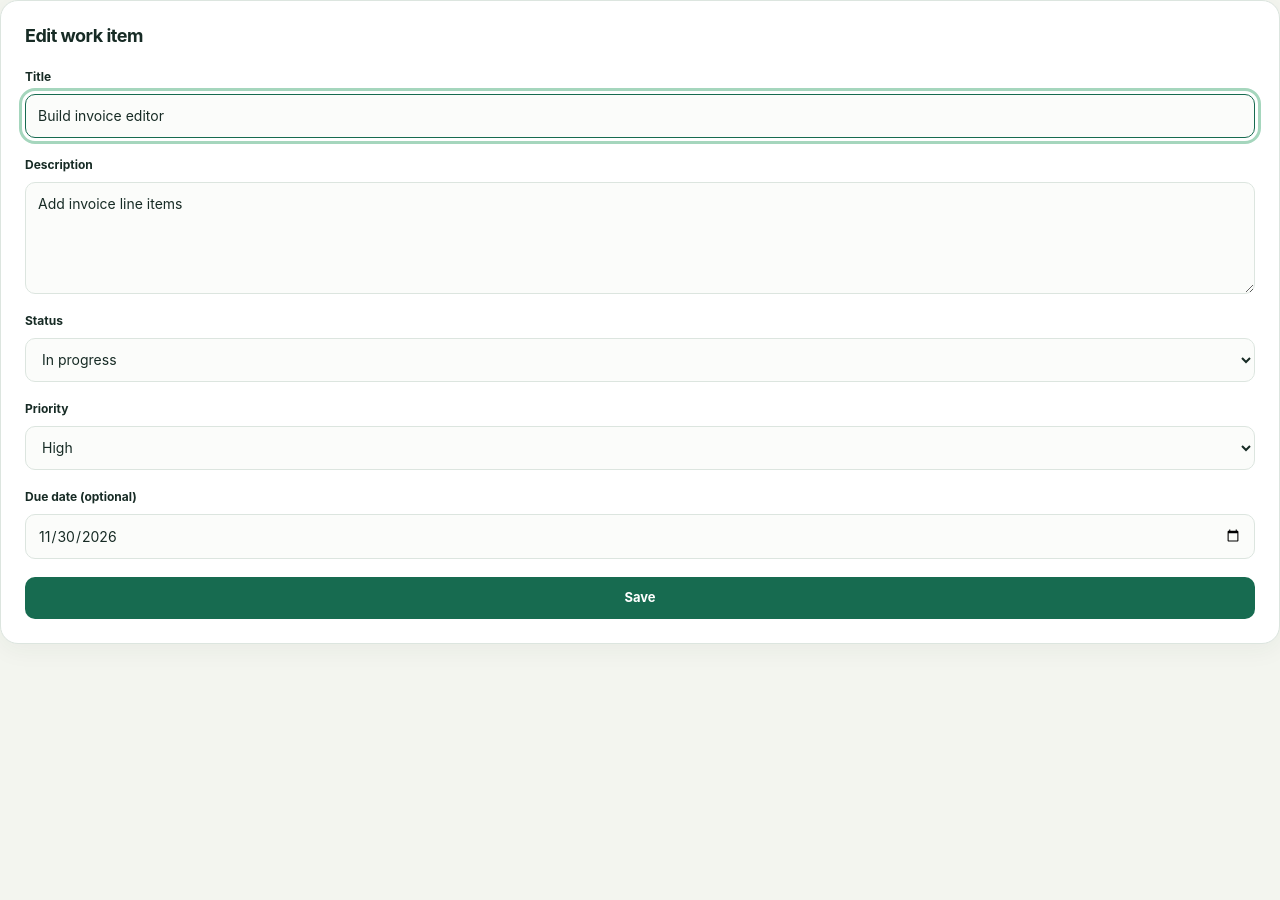
Scenario: WorkItemForm in edit mode › focuses the field rejected by the server and clears its error after editing
This screenshot has width=1280, height=900.
Replace the text in the text box labelled "Description" with "Add invoice fields": (640, 238) [25,182,1255,294]
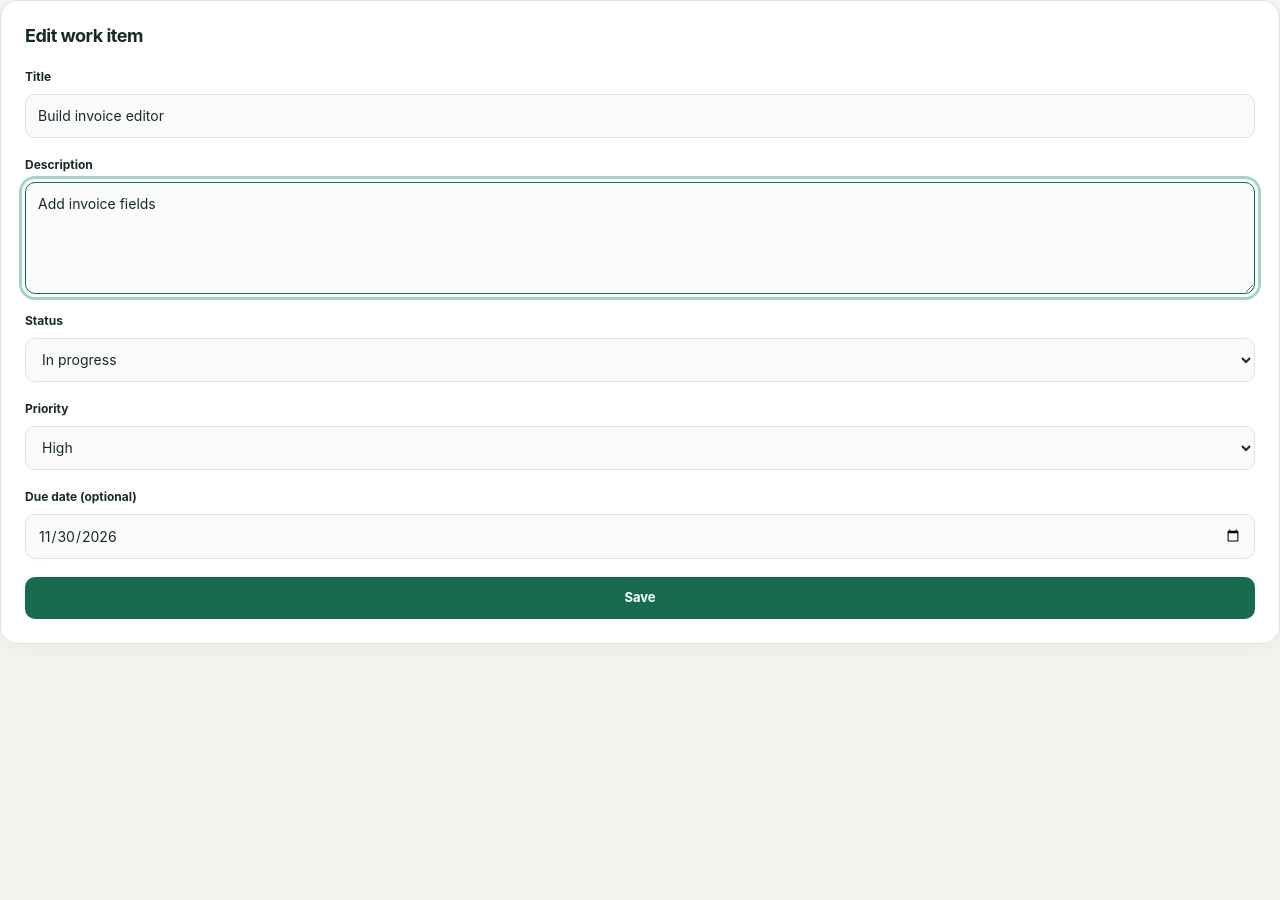
Click the button "Save": (640, 598) [25,576,1255,618]
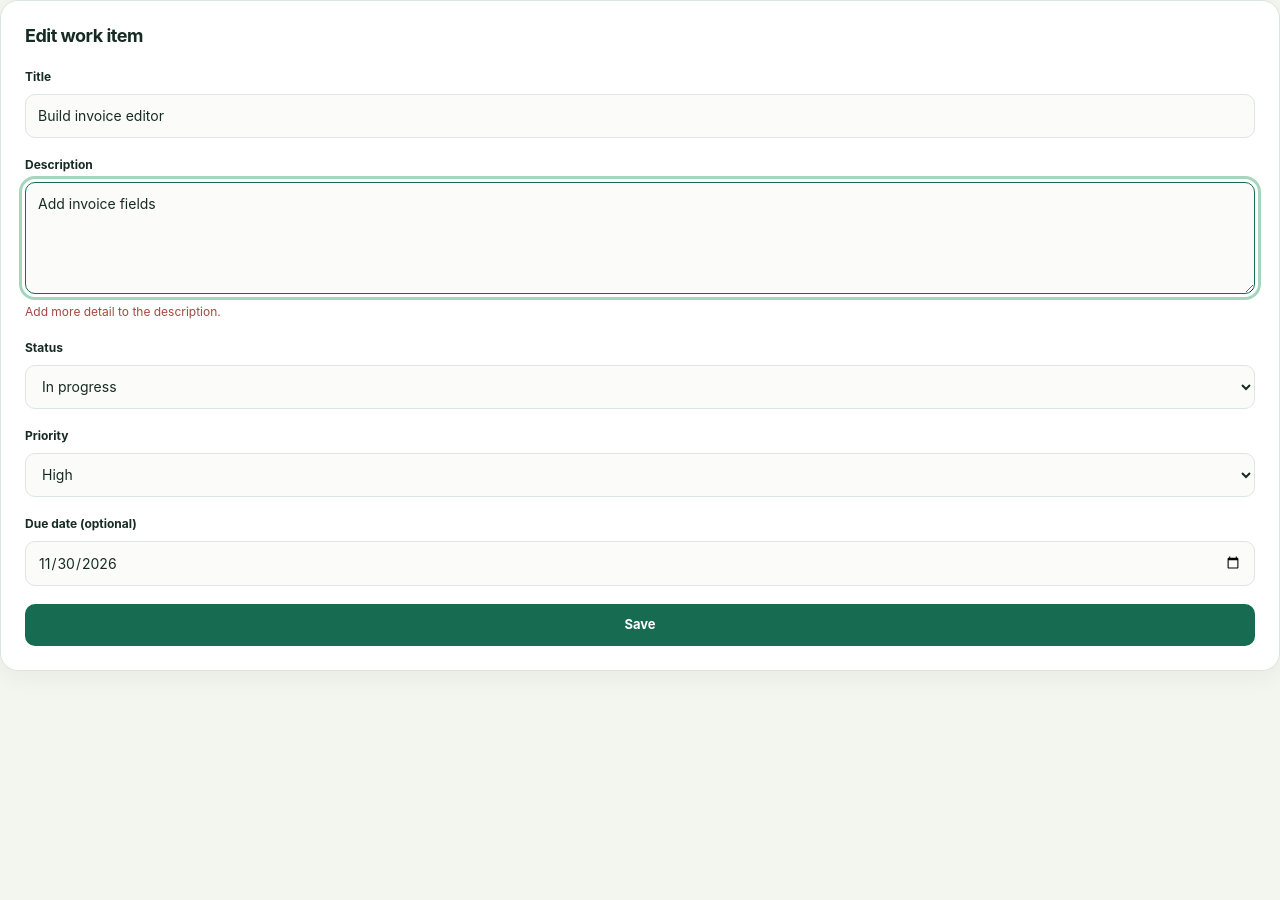
Expected: the text "Add more detail to the description." is shown, [25,304,221,318]
In the text box labelled "Description": (640, 238) [25,182,1255,294], type " and totals"
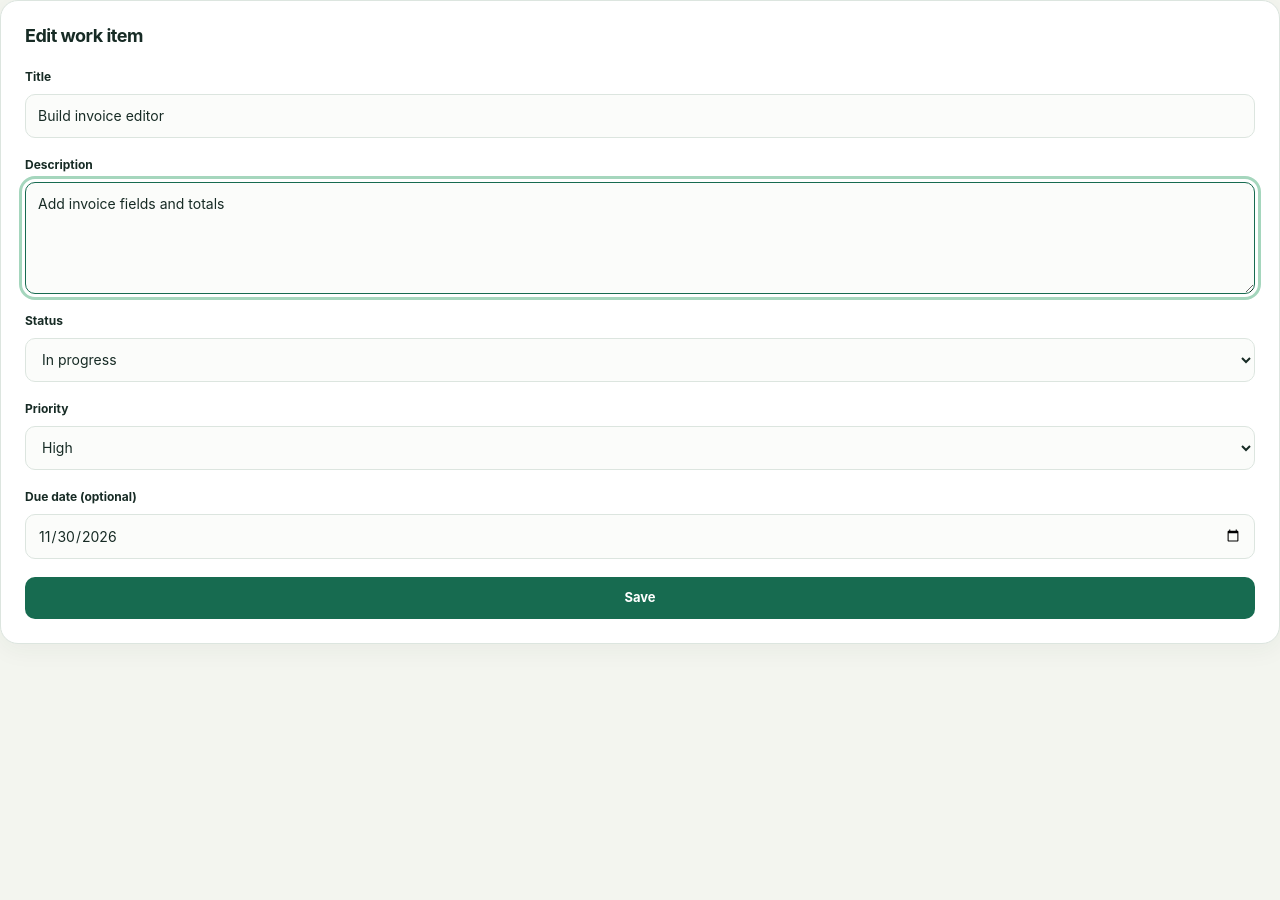
Expected: the text "Add more detail to the description." is gone
Expected: the text box labelled "Description" holds "Add invoice fields and totals", [25,182,1255,294]
